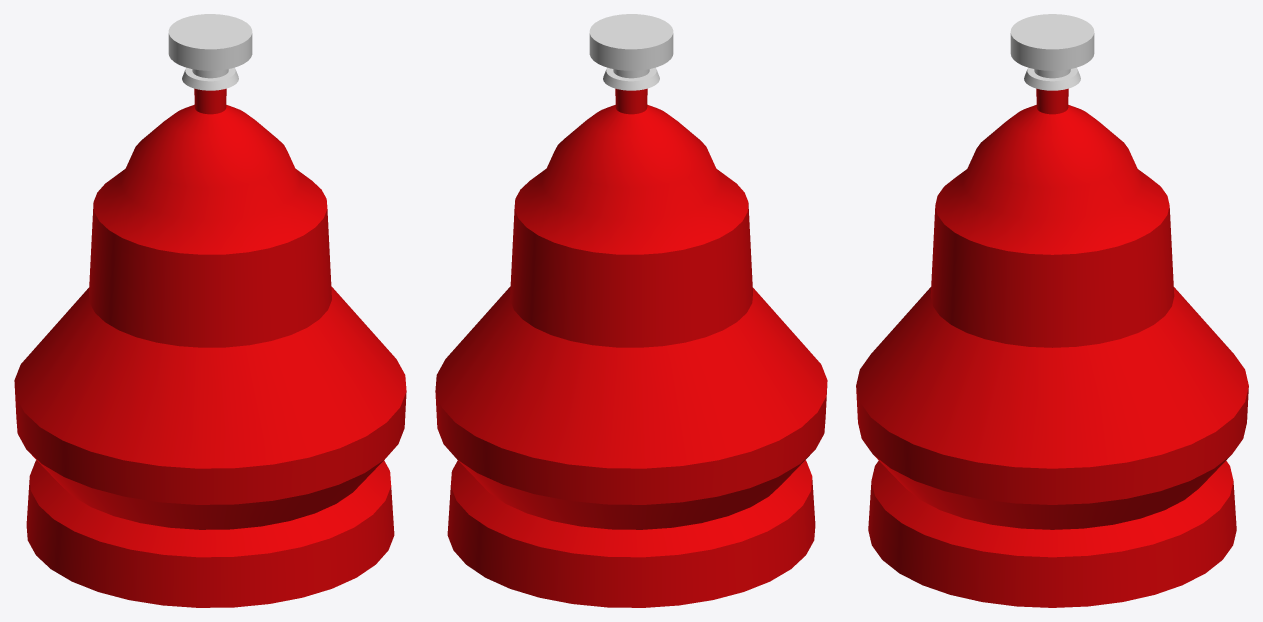
File: bottle47.glb
The picture shows the model from 3 angles, left to right: view 1: azimuth 30°, elevation 25°; view 2: azimuth 150°, elevation 25°; view 3: azimuth 270°, elevation 25°; orthographic projection.
Visible parts, largest first — view 1: Bottle47; view 2: Bottle47; view 3: Bottle47.
Part boxes in pixels (x1,y1,x2,y2): Bottle47: [14, 14, 406, 607]; Bottle47: [435, 14, 827, 607]; Bottle47: [856, 14, 1248, 607].
Size of the model in its own units: 0.5041 by 0.7286 by 0.5041.
